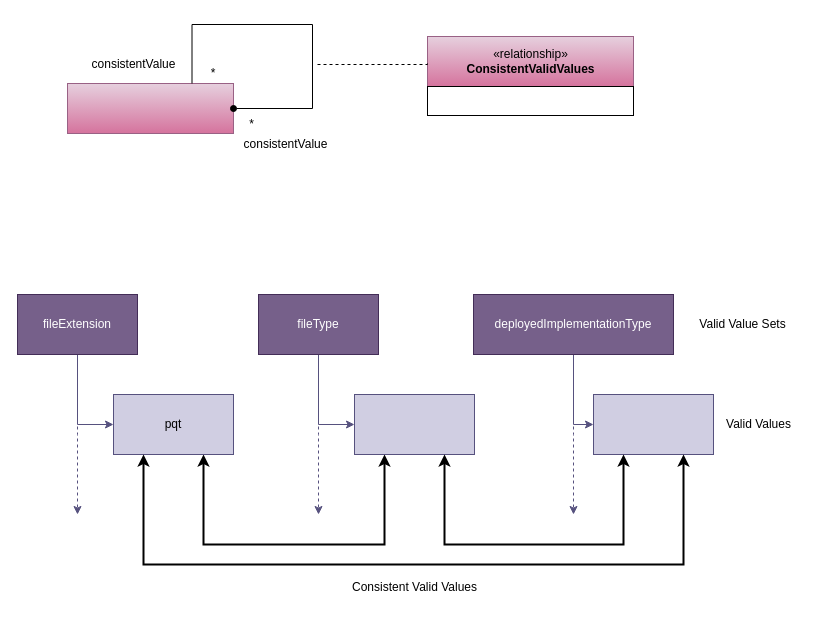
Image size: 821x620. Some labels were removed from this diagram. Here are the shapes that lost their labels. From the top down, the centre of each, then its label:
At (150,108): "«entity» ValidValueDefinition".
At (414,424): "Parquet File".
At (653,424): "Data File".
